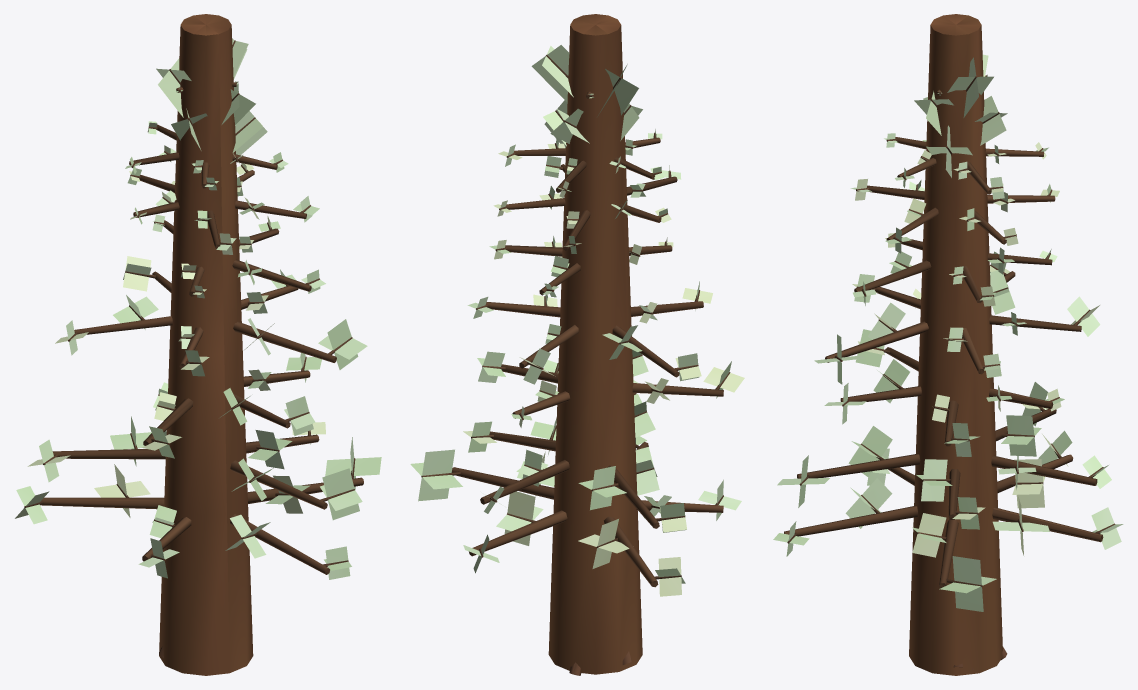
File: small-lod1.glb
3 renders of one model, left to right at view 1: azimuth 30°, elevation 25°; view 2: azimuth 150°, elevation 25°; view 3: azimuth 270°, elevation 25°, orthographic.
Parts seen in each view (by area): view 1: pine-trunk-branches-buried-roots-ground-blend, pine-terminal-needle-sprigs; view 2: pine-trunk-branches-buried-roots-ground-blend, pine-terminal-needle-sprigs; view 3: pine-trunk-branches-buried-roots-ground-blend, pine-terminal-needle-sprigs.
Part boxes in pixels (x1,y1,x2,y2): pine-trunk-branches-buried-roots-ground-blend: (24,14,363,675); pine-terminal-needle-sprigs: (15,39,381,579); pine-trunk-branches-buried-roots-ground-blend: (421,14,730,675); pine-terminal-needle-sprigs: (410,45,744,596); pine-trunk-branches-buried-roots-ground-blend: (784,14,1115,675); pine-terminal-needle-sprigs: (773,54,1123,611).
Size of the model in its own units: 6.86 by 13.04 by 6.52.
